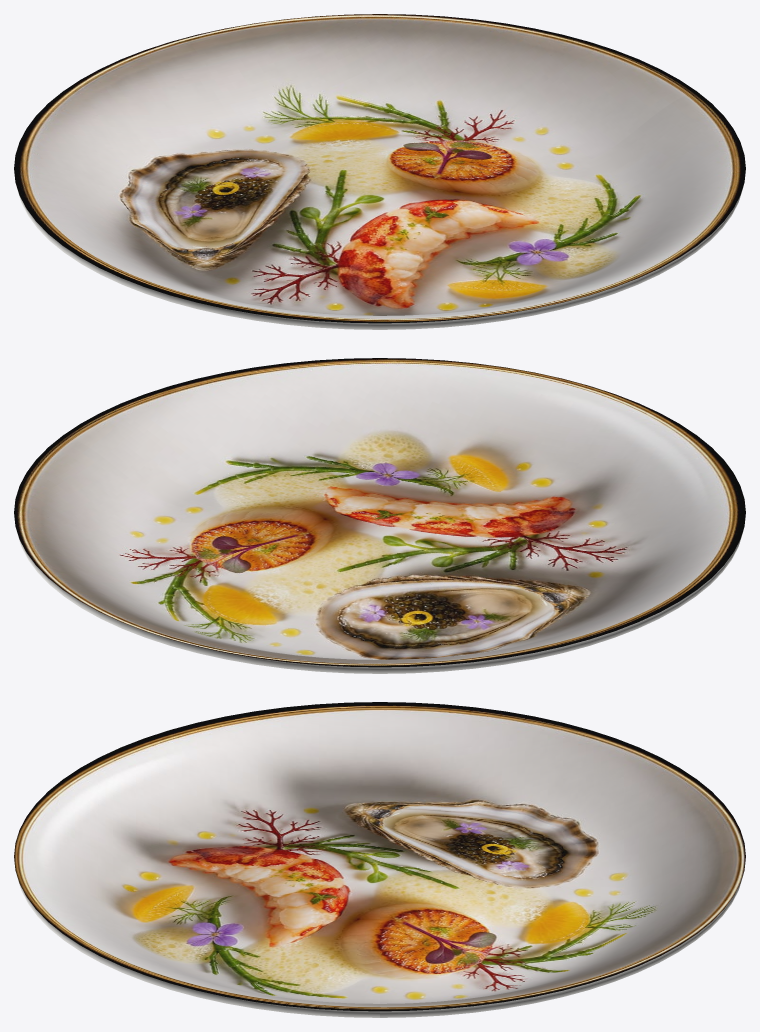
File: degustacao-mar.glb
3 views of the same model, one above another, from view 1: azimuth 30°, elevation 25°; view 2: azimuth 150°, elevation 25°; view 3: azimuth 270°, elevation 25° (orthographic).
Parts seen in each view (by area): view 1: dish; view 2: dish; view 3: dish.
Part boxes in pixels (<box>): dish: <box>14,14,745,329</box>; dish: <box>14,358,745,673</box>; dish: <box>14,702,745,1017</box>.
Size of the model in its own units: 0.27 by 0.025 by 0.27.
Materials: 2 (1 with a texture image).
